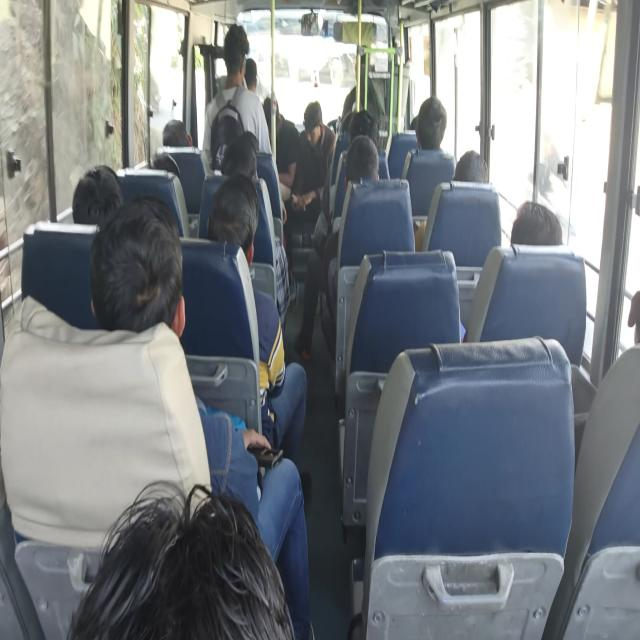person: (109, 493, 291, 640), (100, 209, 170, 349), (66, 165, 126, 228), (208, 187, 260, 247), (216, 18, 258, 87), (614, 281, 640, 380), (508, 200, 548, 261), (347, 130, 380, 181), (256, 87, 291, 133), (236, 52, 269, 98), (229, 143, 261, 189), (422, 92, 445, 148), (302, 92, 326, 142), (334, 100, 366, 134), (347, 116, 382, 146), (458, 142, 483, 180), (233, 125, 261, 156), (410, 95, 427, 139), (150, 141, 173, 172), (167, 113, 186, 141)
